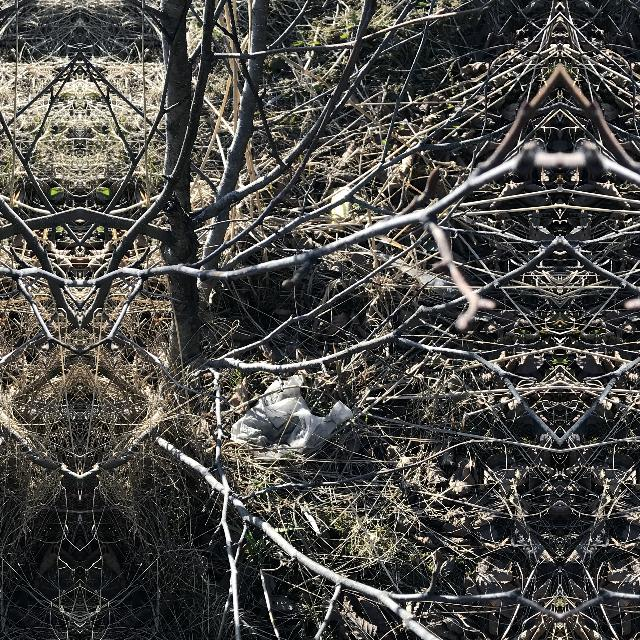Plastic: (227, 367, 361, 465)
